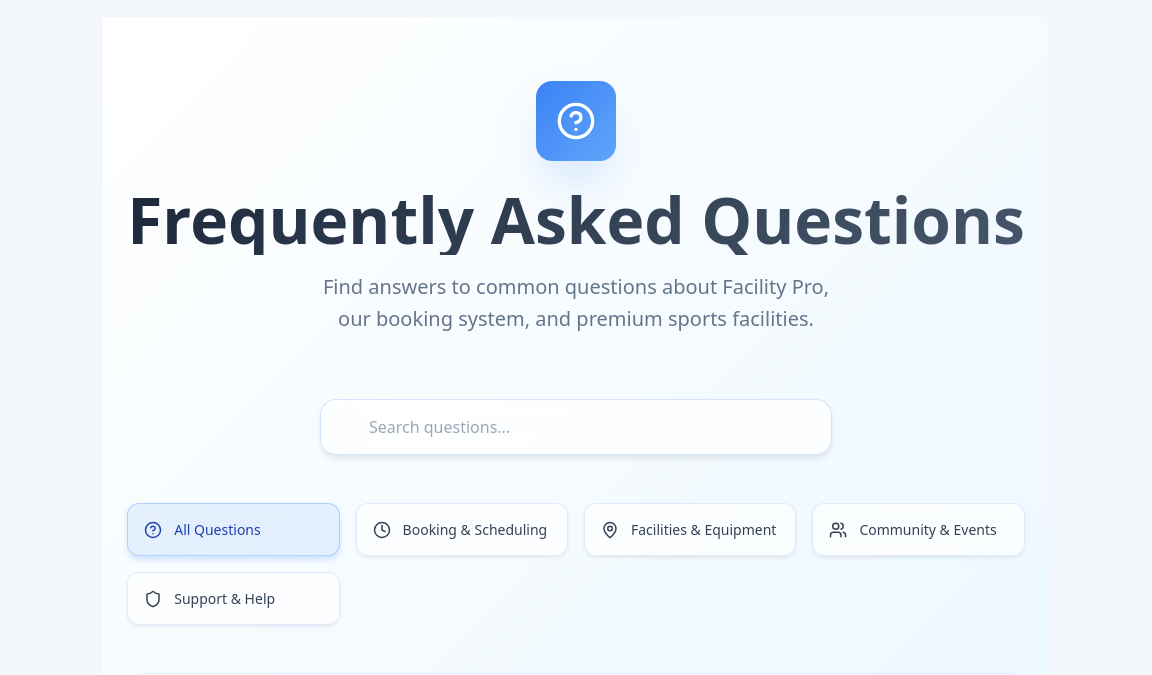
FAQPage › filters questions by category
This screenshot has width=1152, height=675.
Click the button "Facilities & Equipment": coordinates (690, 530) [584,503,796,556]
(page scrolled)
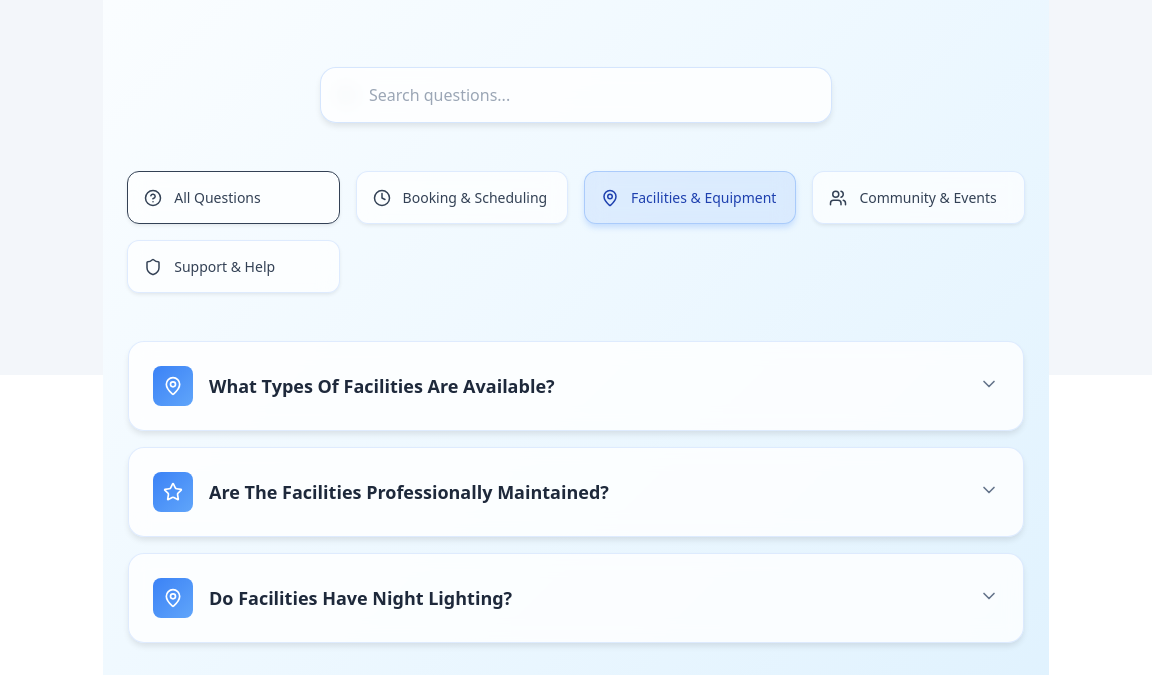
Expected: the button "How do I book a facility" is not shown
Now the heading "Do facilities have night lighting?" is shown, box [209,585,512,612]
